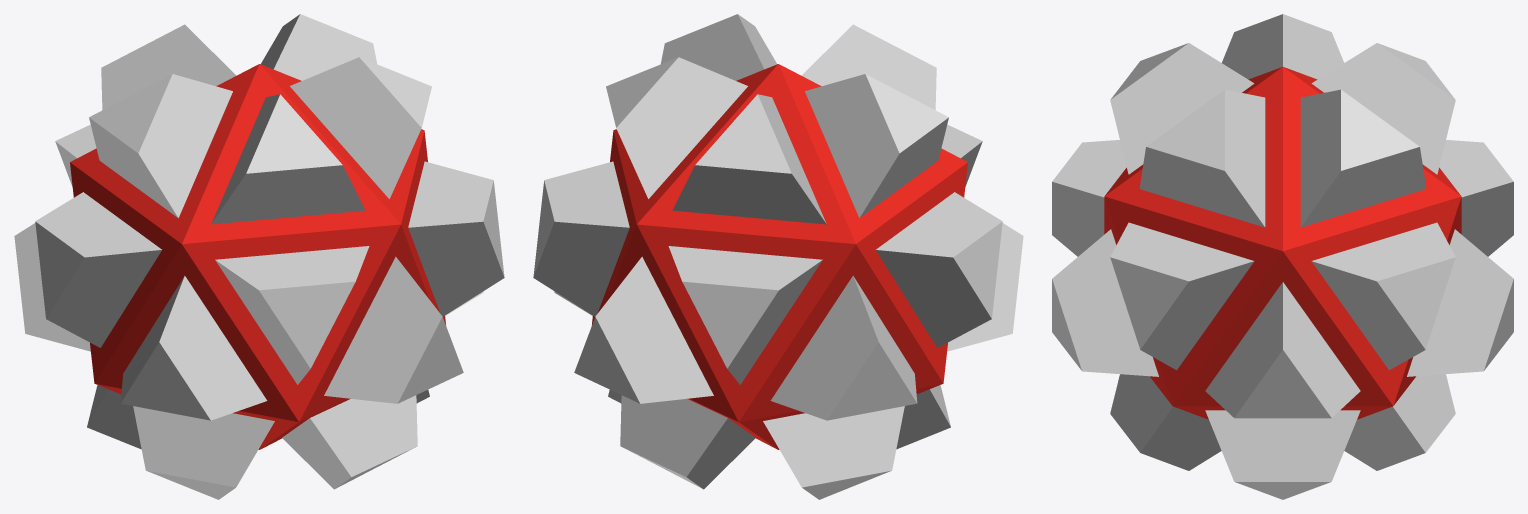
The model's file is ico core 2.fbx.
3 views of the same model, side by side, from view 1: azimuth 30°, elevation 25°; view 2: azimuth 150°, elevation 25°; view 3: azimuth 270°, elevation 25° (orthographic).
Parts seen in each view (by area): view 1: Icosphere; view 2: Icosphere; view 3: Icosphere.
Boxes of the visible parts, <box> form: Icosphere: <box>14,14,504,499</box>; Icosphere: <box>533,14,1023,499</box>; Icosphere: <box>1052,14,1513,499</box>.
Bounding box in the file's own units: 220 × 231 × 212.
